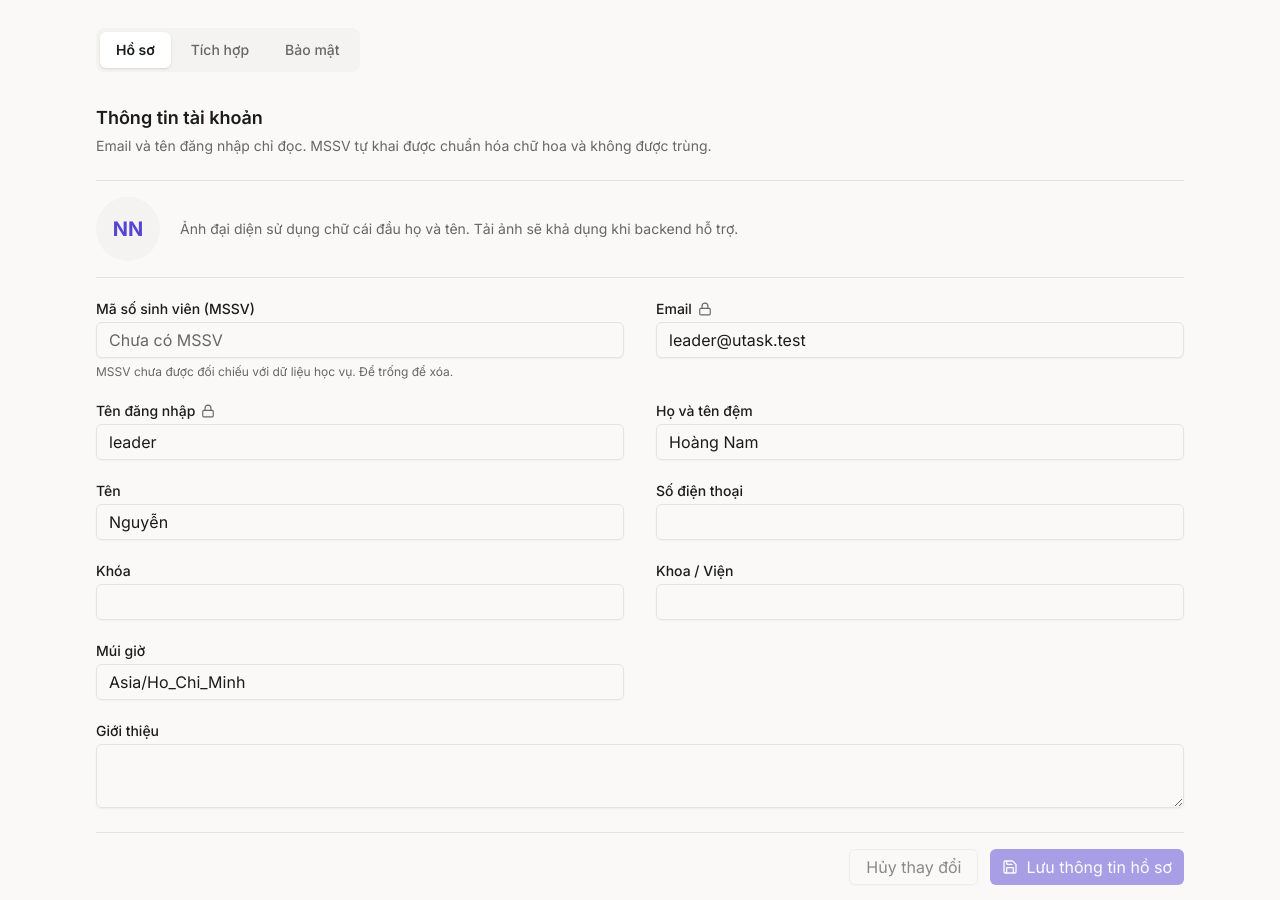
Test: IdentityProfilePage › reports a failure without field errors as a toast and keeps the edit
This screenshot has width=1280, height=900.
Type "0901" into the field labelled "Số điện thoại". click: (920, 522)
box: [656,504,1184,540]
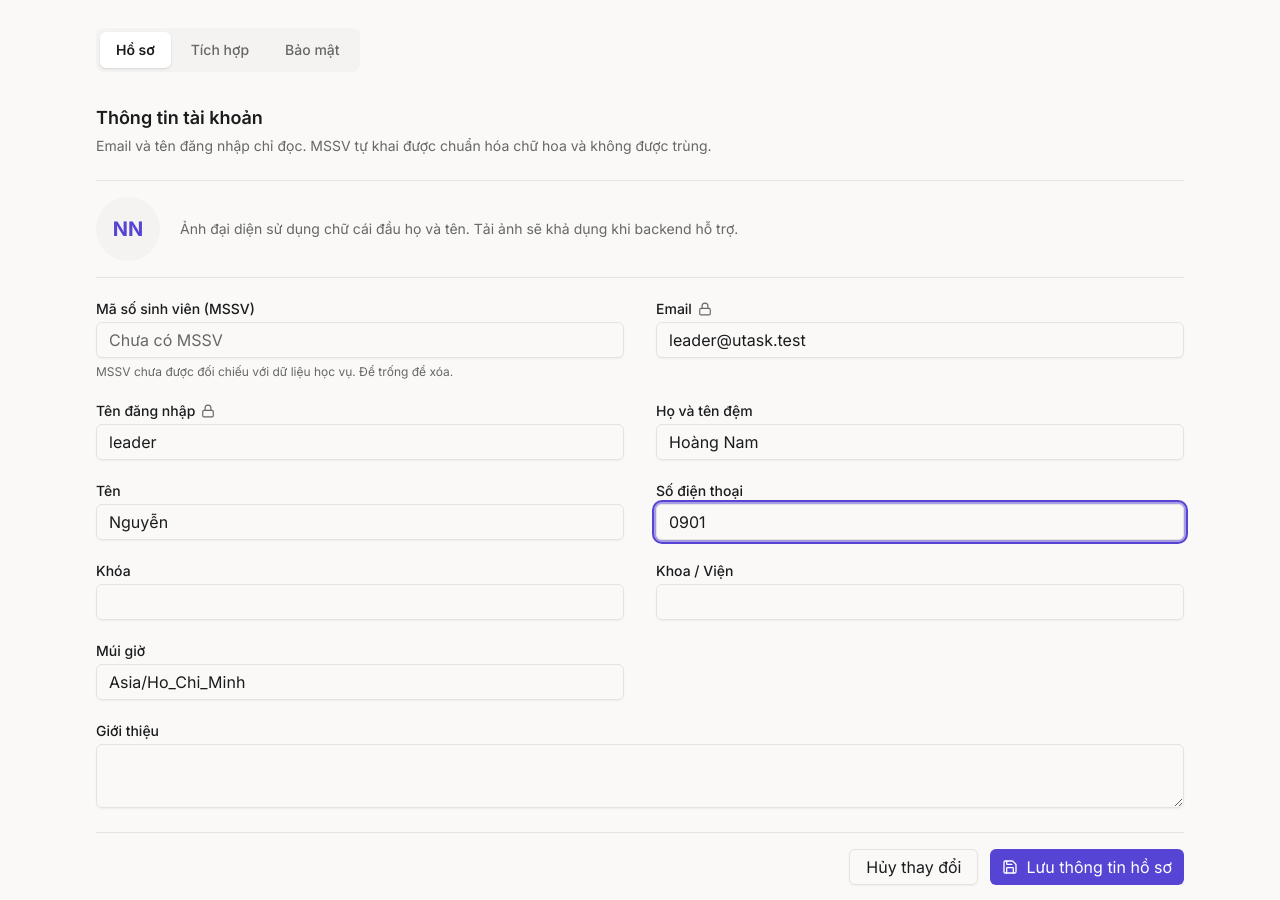
Click the button "Lưu thông tin hồ sơ". click: (1087, 867)
box: [990,849,1184,885]
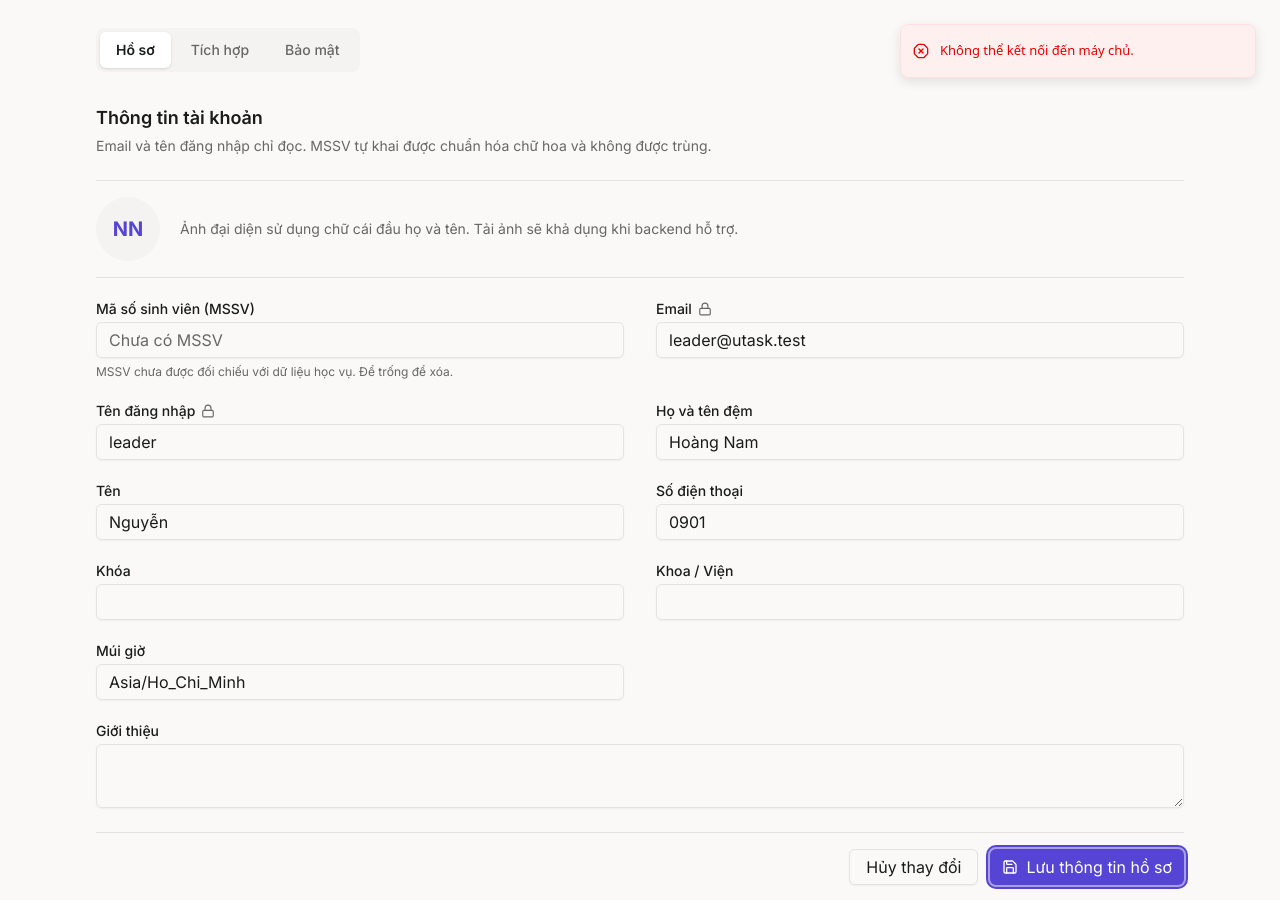
Check: the text "Không thể kết nối đến máy chủ." is shown, box [940,41,1134,60]
